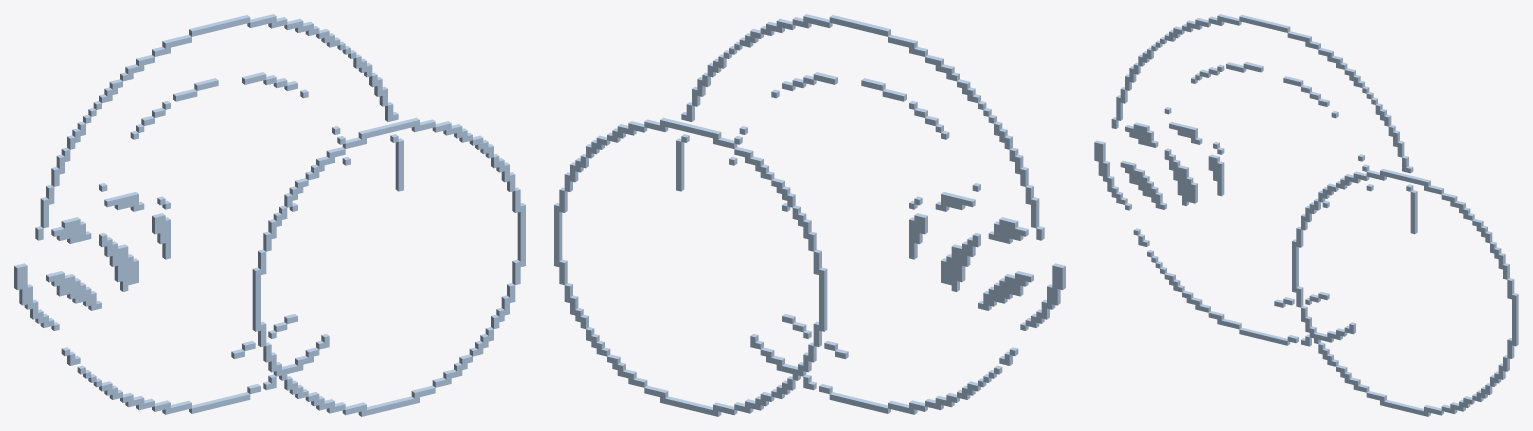
The model's file is Fight_724_2_08_fx.obj.
The picture shows the model from 3 angles, left to right: view 1: azimuth 30°, elevation 25°; view 2: azimuth 150°, elevation 25°; view 3: azimuth 330°, elevation 25°; orthographic projection. The views are drawn at different scales.
Bounding box in the file's own units: 9.6 × 7.7 × 0.1.
1 material, 1 textured.
